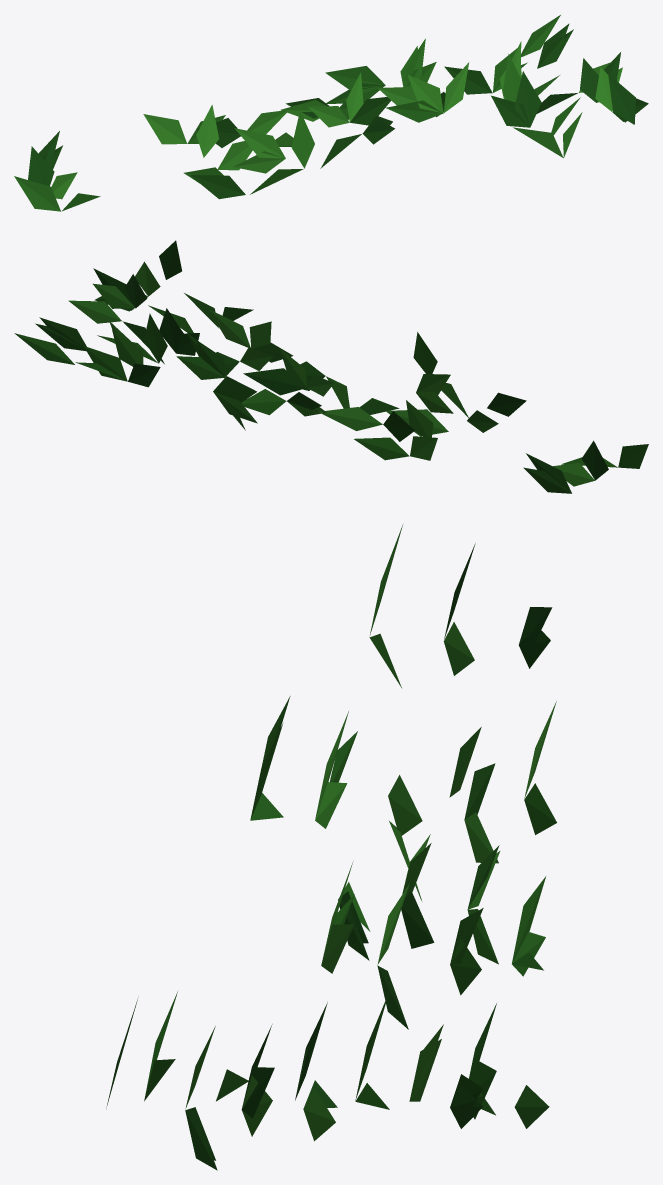
3 views of the same model, one above another, from view 1: azimuth 30°, elevation 25°; view 2: azimuth 150°, elevation 25°; view 3: azimuth 270°, elevation 25° (orthographic). The views are drawn at different scales.
Parts seen in each view (by area): view 1: r9c2_l10; view 2: r9c2_l10; view 3: r9c2_l10.
Part boxes in pixels (bbox=[...]): r9c2_l10: bbox=[14, 15, 648, 211]; r9c2_l10: bbox=[14, 240, 648, 493]; r9c2_l10: bbox=[106, 525, 556, 1170].
Bounding box in the file's own units: 1.86 × 0.2557 × 0.6164.
